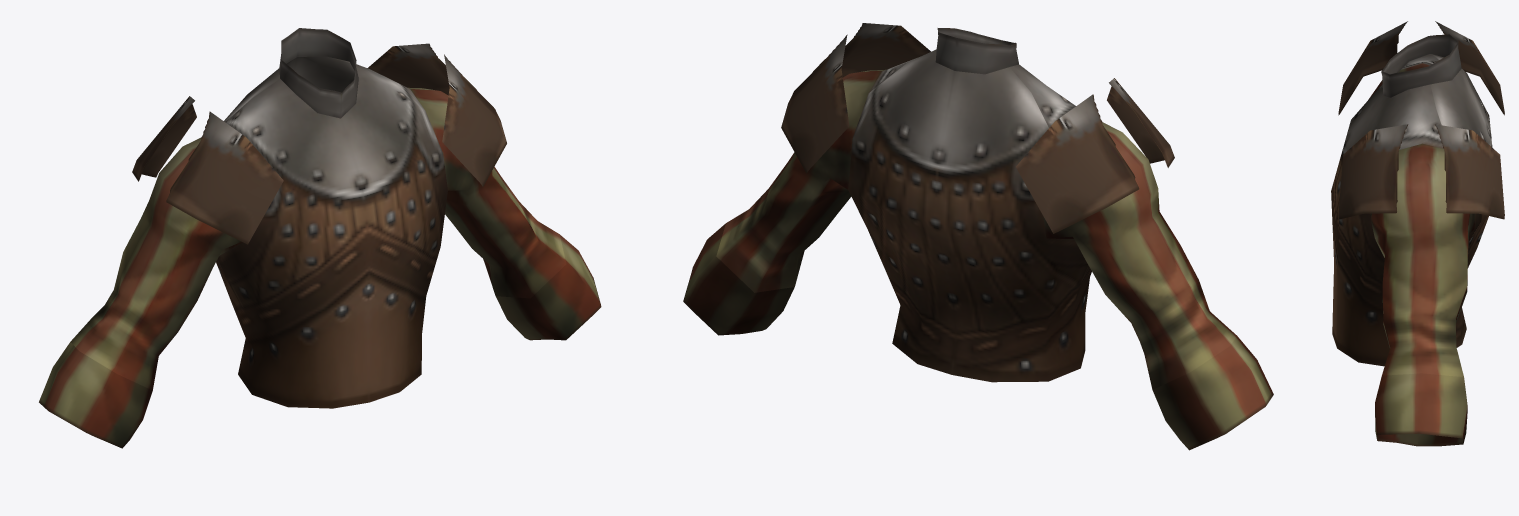
File: hum_light_c_87ea0f58.glb
3 views of the same model, side by side, from view 1: azimuth 30°, elevation 25°; view 2: azimuth 150°, elevation 25°; view 3: azimuth 270°, elevation 25° (orthographic). The views are drawn at different scales.
Size of the model in its own units: 1.52 by 0.9878 by 0.4244.
1 material, 1 textured.
